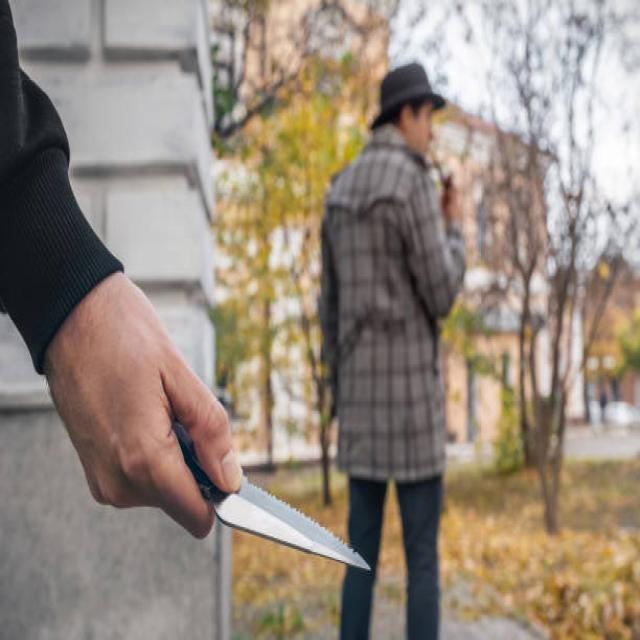faca: (35, 274, 385, 590)
